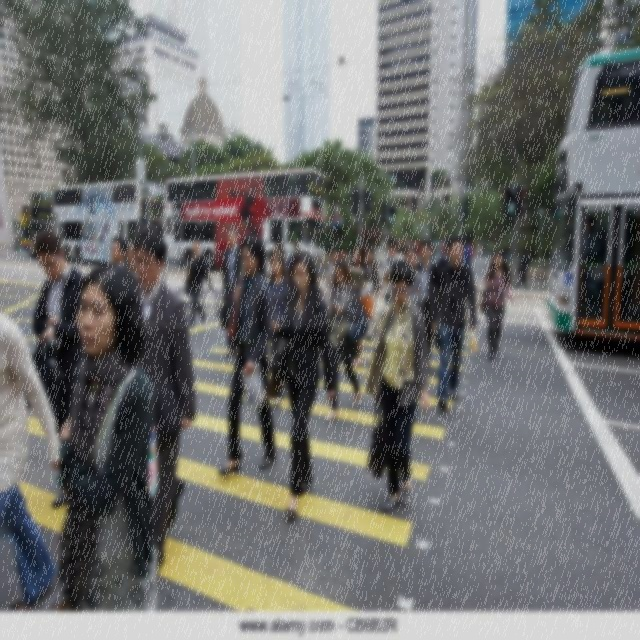pessoa: (55, 264, 162, 638), (131, 226, 197, 580), (0, 310, 67, 612), (270, 250, 337, 520), (365, 256, 431, 512), (31, 226, 90, 510), (216, 234, 278, 476), (431, 229, 479, 411), (324, 258, 370, 427), (480, 246, 516, 362), (414, 238, 441, 368), (267, 252, 289, 408), (219, 225, 244, 361), (184, 234, 212, 332), (396, 234, 486, 256), (381, 236, 406, 306), (325, 244, 363, 290), (403, 245, 428, 311), (106, 233, 136, 275), (363, 244, 381, 306), (583, 215, 603, 265), (267, 236, 301, 264), (514, 246, 532, 292)
